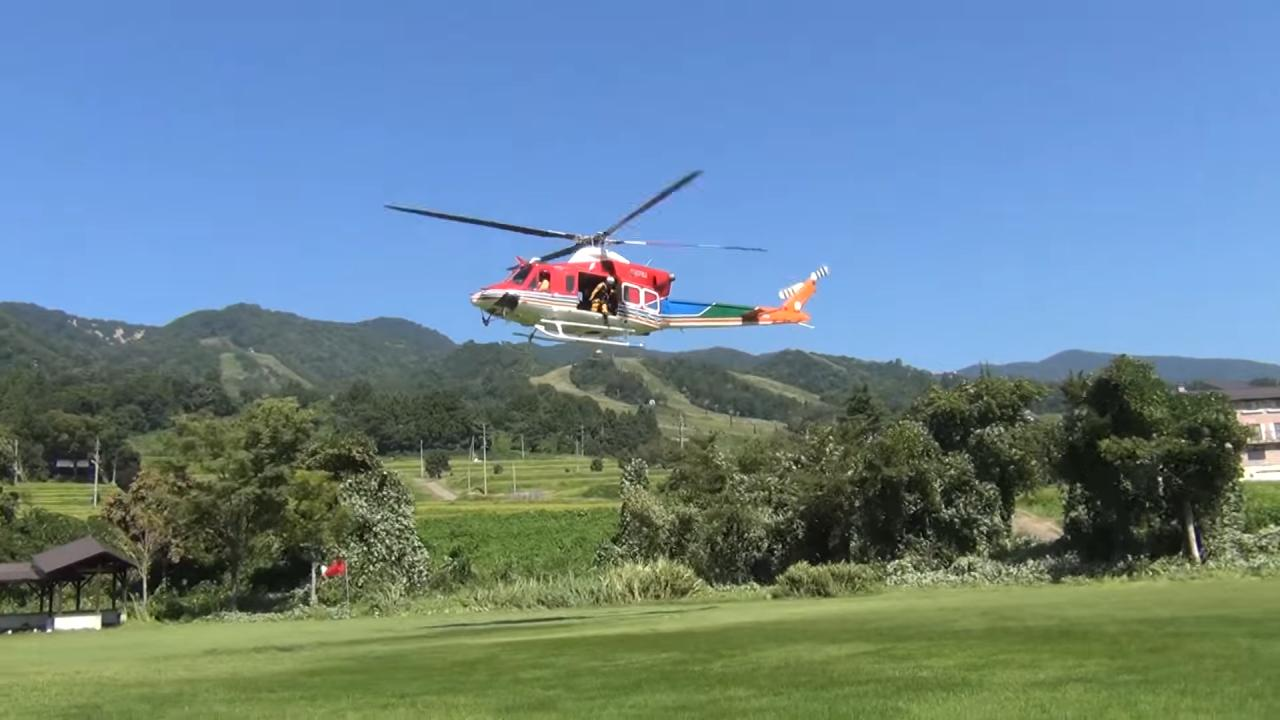Helicopter: (362, 135, 854, 377)
